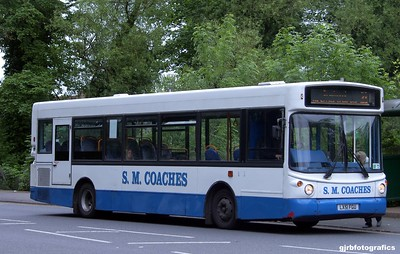bus: (29, 80, 386, 229)
